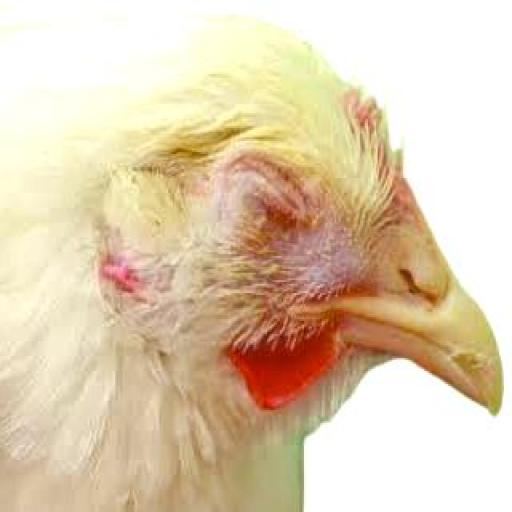disease: (210, 127, 325, 241)
